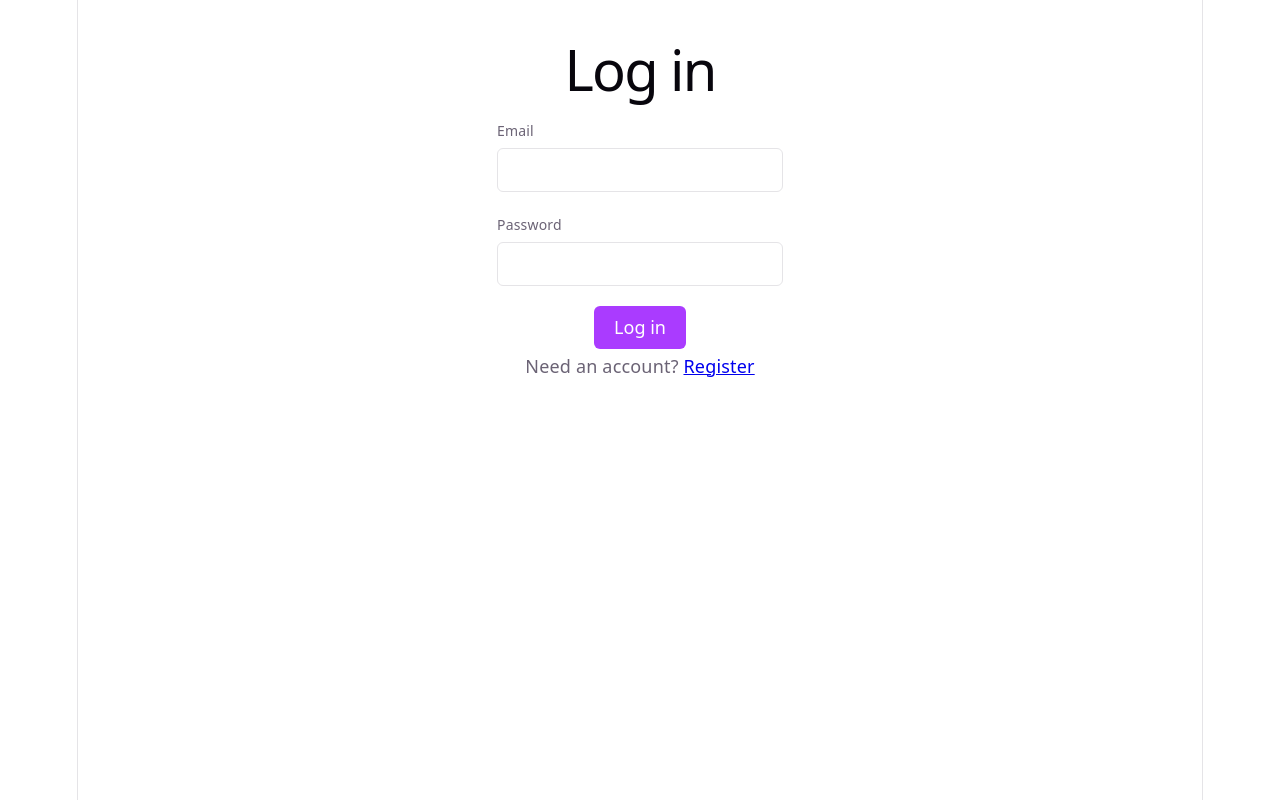
Test case: LoginPage › shows the server message when login is rejected for another reason
In the field labelled "Email": (640, 170) [497,148,783,192], type "bob@scpay.test"
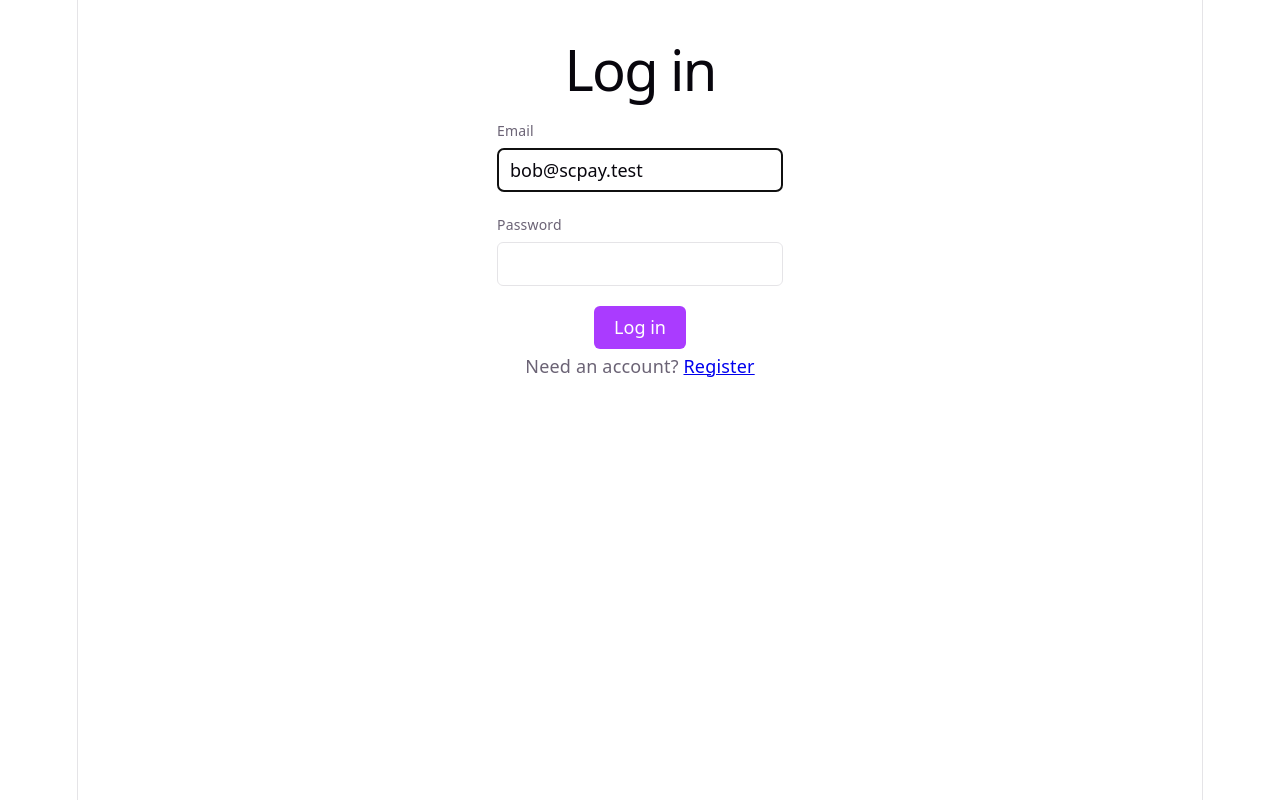
In the password field labelled "Password": (640, 264) [497,242,783,286], type "Password123!"
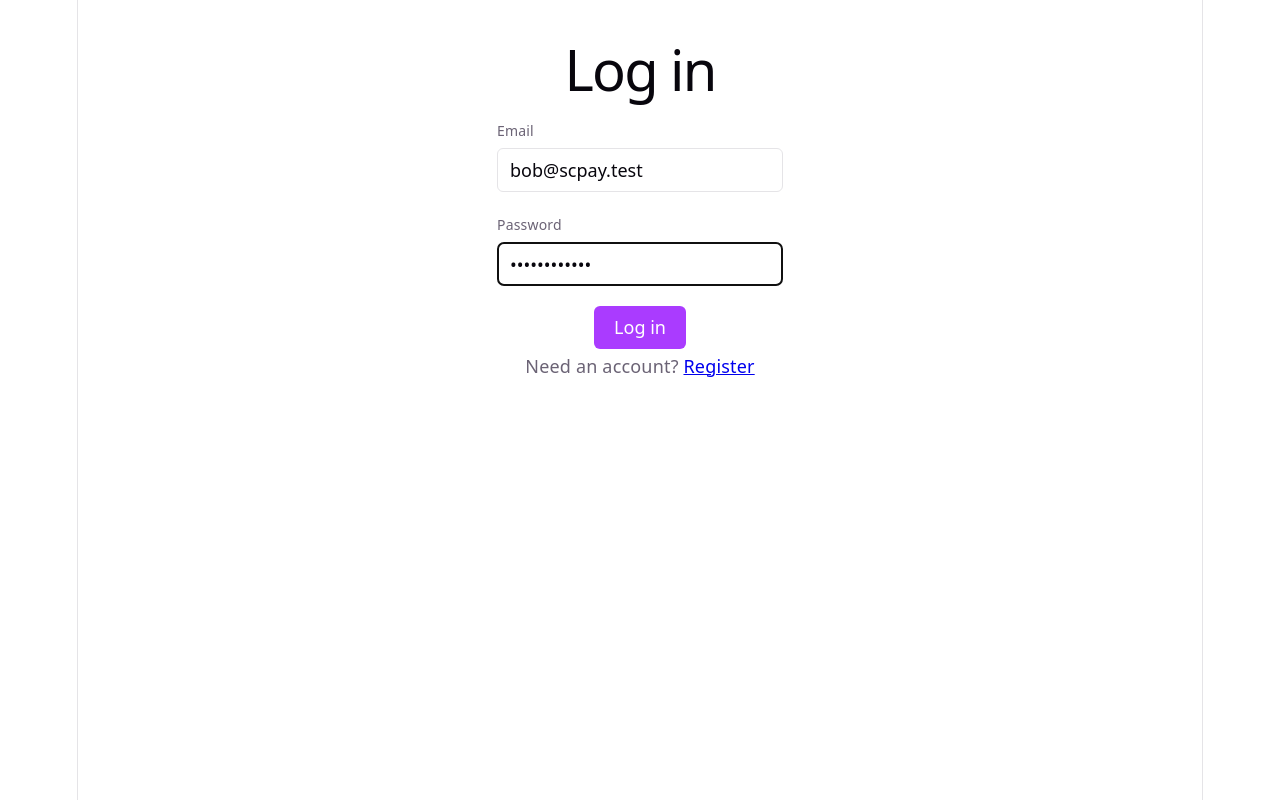
Click the button "Log in": click(640, 328) [594,306,686,349]
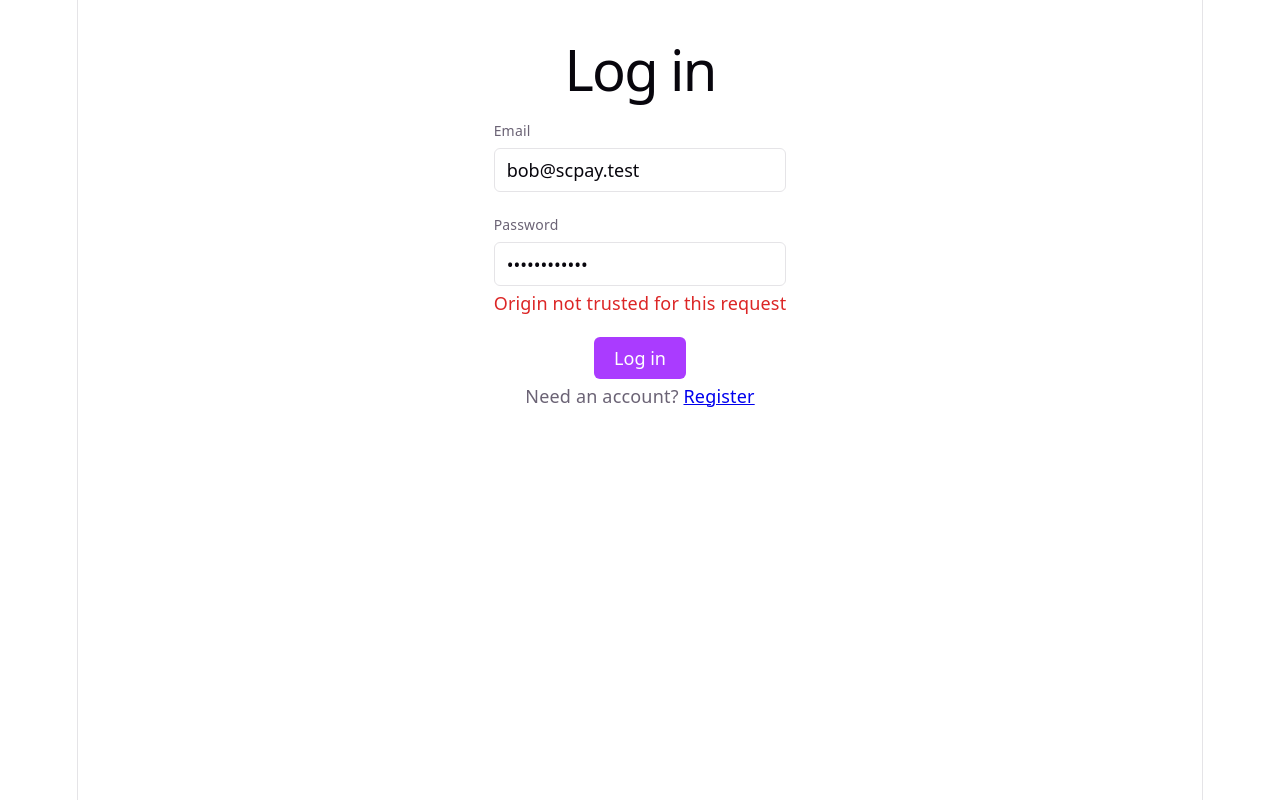
Expected: the message reads "Origin not trusted for this request", [494,292,786,316]
